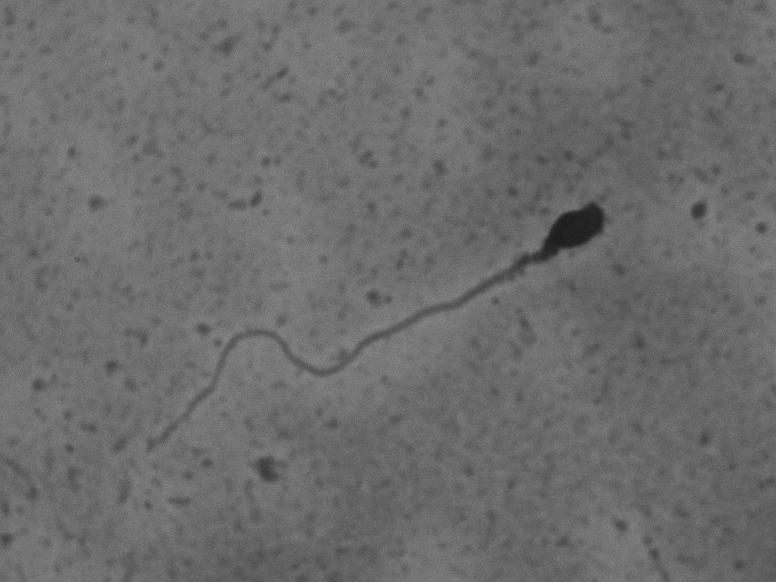Abnormal: (122, 201, 678, 478)
